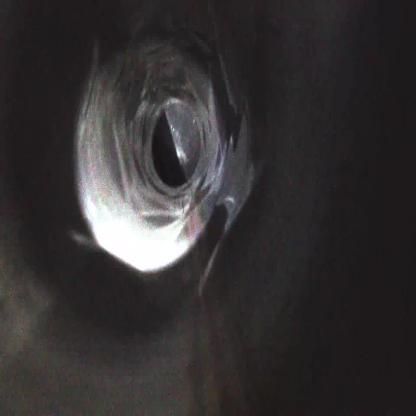Crack: (74, 32, 255, 273)
